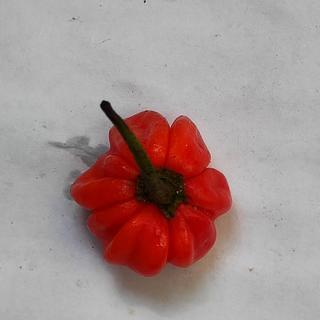Grade-B: (66, 103, 237, 278)
